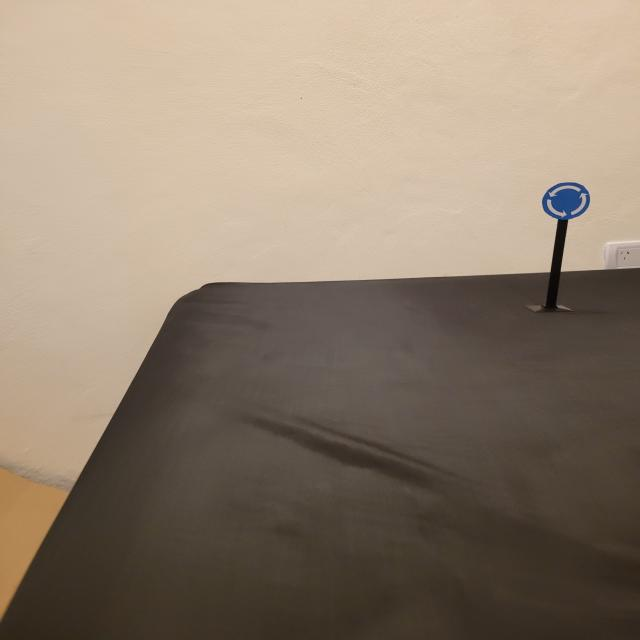round_about: (541, 182, 591, 221)
